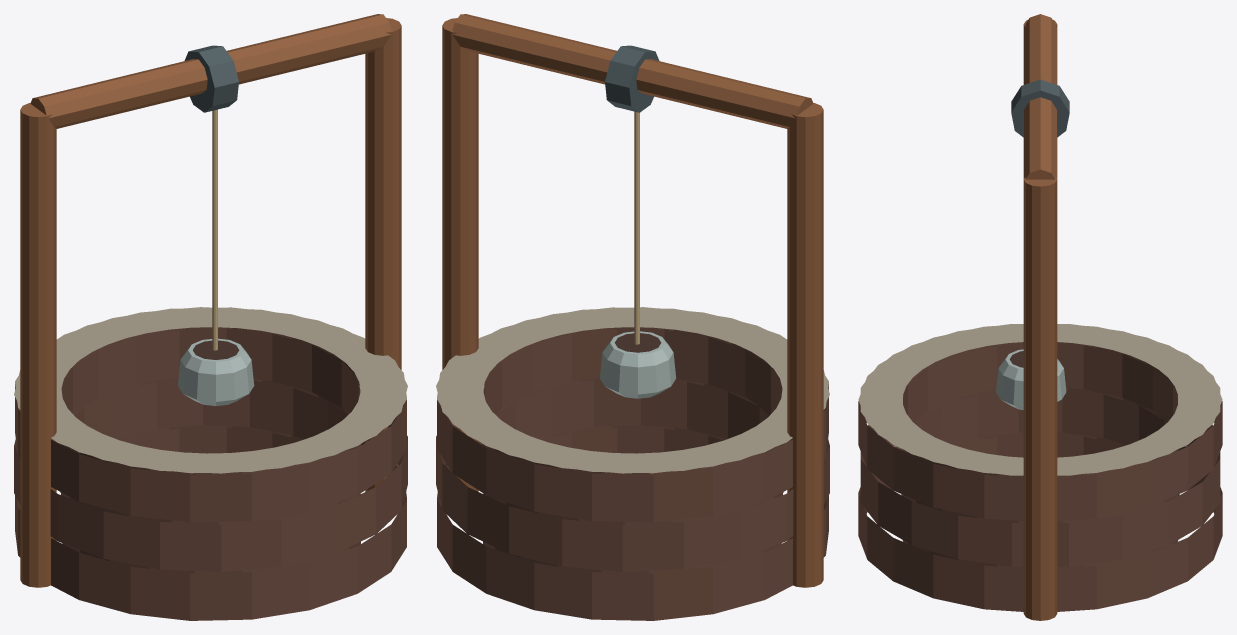
The model's file is 061_pulley_well.glb.
3 renders of one model, left to right at view 1: azimuth 30°, elevation 25°; view 2: azimuth 150°, elevation 25°; view 3: azimuth 270°, elevation 25°, orthographic. The views are drawn at different scales.
Visible parts, largest first — view 1: Pulley well; view 2: Pulley well; view 3: Pulley well.
Part boxes in pixels (x1,y1,x2,y2): Pulley well: (14, 14, 407, 620); Pulley well: (436, 14, 829, 620); Pulley well: (858, 14, 1222, 620).
Bounding box in the file's own units: 2.16 × 2.68 × 1.96.
